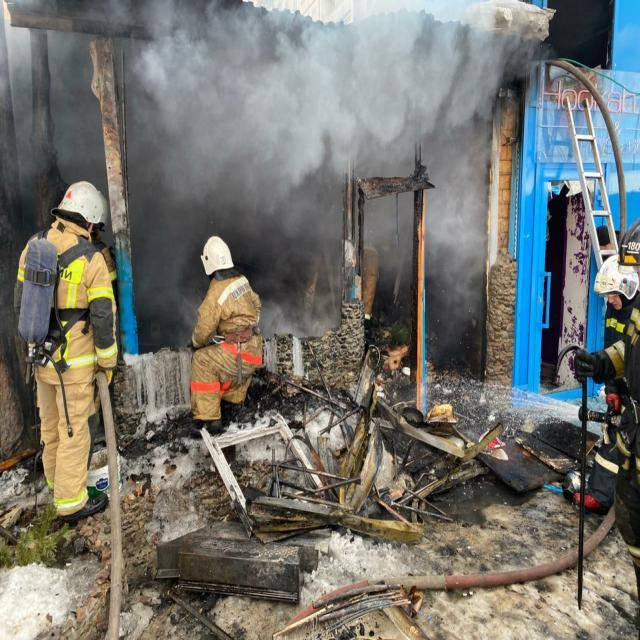Smoke: (127, 0, 547, 355)
